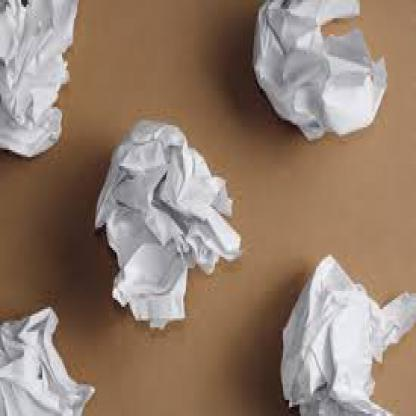paper: (90, 116, 240, 334), (277, 252, 414, 414), (245, 0, 390, 143), (0, 0, 80, 157), (0, 304, 94, 414)
